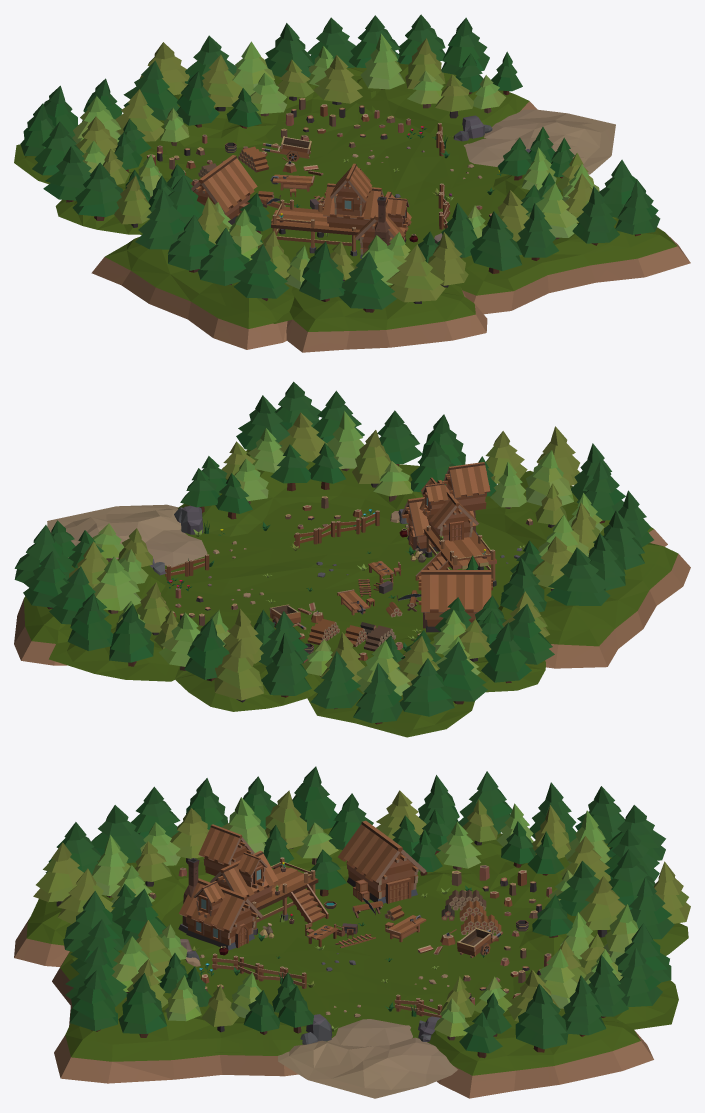
Rendered from LumberMill.glb.
The picture shows the model from 3 angles, top to bottom: view 1: azimuth 30°, elevation 25°; view 2: azimuth 150°, elevation 25°; view 3: azimuth 270°, elevation 25°; orthographic projection. The views are drawn at different scales.
Visible parts, largest first — view 1: TB_Env_Tile_Grass_A, TB_Env_Mound_Corner_A, TB_Env_Mound_Big_A, TB_Env_Mound_Med_A, TB_Env_LowMound_C, TB_Env_Mound_Med_A (1), TB_Bd_WoodHouse (×2), TB_Env_LowMound_A (3), TB_Env_LowMoundCir_A (1), TB_Bd_Ext_Big, TB_Env_Tree_A (6), TB_Env_Tree_C (+69 smaller); view 2: TB_Env_Tile_Grass_A, TB_Env_Mound_Big_A, TB_Env_Mound_Corner_A, TB_Env_LowMound_C, TB_Bd_WoodHouse (×2), TB_Env_Mound_Med_A (1), TB_Env_LowMound_A (3), TB_Env_Mound_Med_A, TB_Env_LowMound_A (2), TB_Env_LowMoundCir_A (1), TB_Env_Tree_A (3), TB_Env_Tree_C (11) (+66 smaller); view 3: TB_Env_Tile_Grass_A, TB_Env_Mound_Corner_A, TB_Env_Mound_Med_A (1), TB_Env_LowMound_C, TB_Bd_WoodHouse (×2), TB_Env_Mound_Med_A, TB_Env_LowMoundCir_A, TB_Env_Tree_A (22), TB_Env_Tree_A (13), TB_Env_Tree_A (12), TB_Env_LowMound_A (3), TB_Env_Tree_A (3) (+85 smaller).
Boxes of the visible parts, x1,y1,x2,y2 form: TB_Env_Tile_Grass_A: [175, 113, 508, 323]; TB_Env_Mound_Corner_A: [457, 174, 690, 314]; TB_Env_Mound_Big_A: [91, 237, 294, 349]; TB_Env_Mound_Med_A: [286, 279, 487, 352]; TB_Env_LowMound_C: [464, 109, 615, 174]; TB_Env_Mound_Med_A (1): [353, 62, 537, 136]; TB_Bd_WoodHouse (×2): [191, 155, 411, 258]; TB_Env_LowMound_A (3): [273, 65, 375, 131]; TB_Env_LowMoundCir_A (1): [157, 94, 278, 148]; TB_Bd_Ext_Big: [271, 199, 359, 256]; TB_Env_Tree_A (6): [339, 252, 396, 312]; TB_Env_Tree_C: [386, 244, 445, 303]; TB_Env_Tile_Grass_A: [160, 502, 525, 659]; TB_Env_Mound_Big_A: [498, 543, 690, 668]; TB_Env_Mound_Corner_A: [177, 446, 423, 536]; TB_Env_LowMound_C: [47, 504, 207, 566]; TB_Bd_WoodHouse (×2): [401, 497, 492, 632]; TB_Env_Mound_Med_A (1): [14, 559, 165, 665]; TB_Env_LowMound_A (3): [49, 618, 206, 681]; TB_Env_Mound_Med_A: [475, 470, 667, 549]; TB_Env_LowMound_A (2): [307, 659, 474, 737]; TB_Env_LowMoundCir_A (1): [175, 651, 323, 711]; TB_Env_Tree_A (3): [546, 547, 610, 605]; TB_Env_Tree_C (11): [214, 639, 263, 702]; TB_Env_Tile_Grass_A: [161, 876, 544, 1052]; TB_Env_Mound_Corner_A: [52, 945, 307, 1083]; TB_Env_Mound_Med_A (1): [427, 1008, 653, 1098]; TB_Env_LowMound_C: [278, 1019, 457, 1098]; TB_Bd_WoodHouse (×2): [179, 820, 426, 950]; TB_Env_Mound_Med_A: [14, 860, 186, 966]; TB_Env_LowMoundCir_A: [416, 833, 519, 900]; TB_Env_Tree_A (22): [515, 984, 567, 1052]; TB_Env_Tree_A (13): [118, 973, 166, 1037]; TB_Env_Tree_A (12): [70, 970, 117, 1031]; TB_Env_LowMound_A (3): [513, 971, 678, 1029]; TB_Env_Tree_A (3): [292, 766, 337, 830].
Bounding box in the file's own units: 56.29 × 10.18 × 57.29.
1 material, 1 textured.
